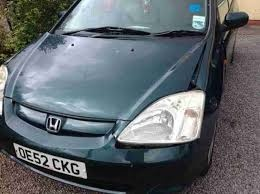Dent: (185, 43, 210, 91)
